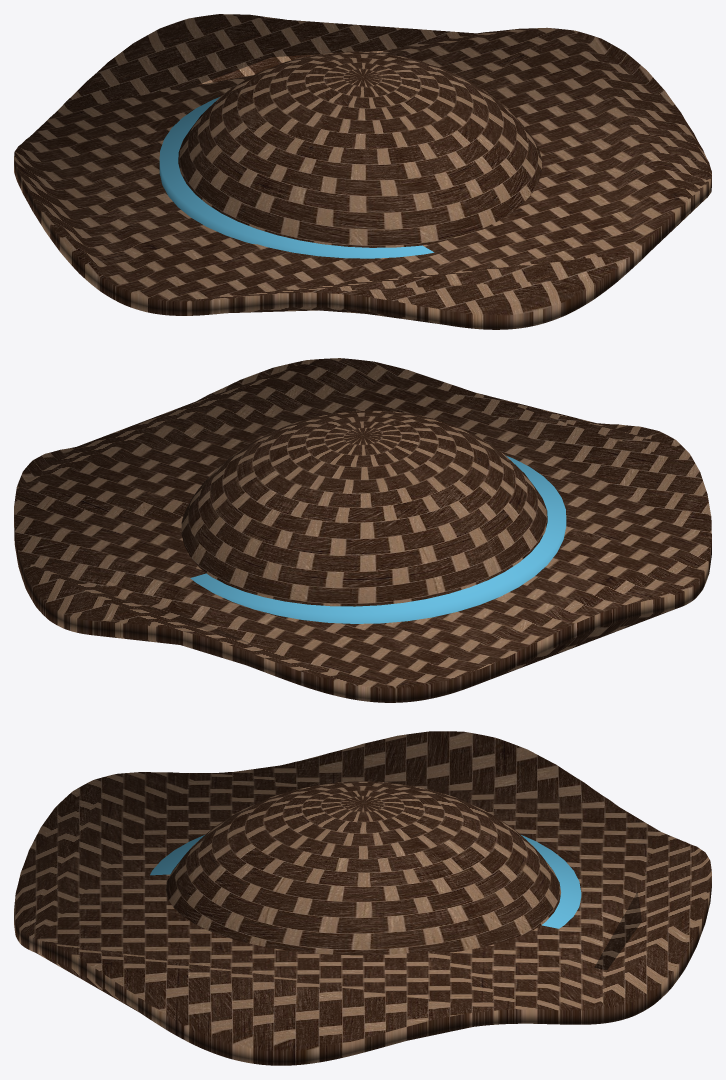
The model's file is strawhat_blue.glb.
3 views of the same model, one above another, from view 1: azimuth 30°, elevation 25°; view 2: azimuth 150°, elevation 25°; view 3: azimuth 270°, elevation 25° (orthographic).
Parts seen in each view (by area): view 1: Sphere; view 2: Sphere; view 3: Sphere.
Part boxes in pixels (box(x1,y1,x2,y2)): Sphere: box(14, 14, 711, 329); Sphere: box(14, 358, 711, 702); Sphere: box(14, 731, 711, 1065).
Size of the model in its own units: 0.54 by 0.12 by 0.54.
Materials: 3 (2 with a texture image).
